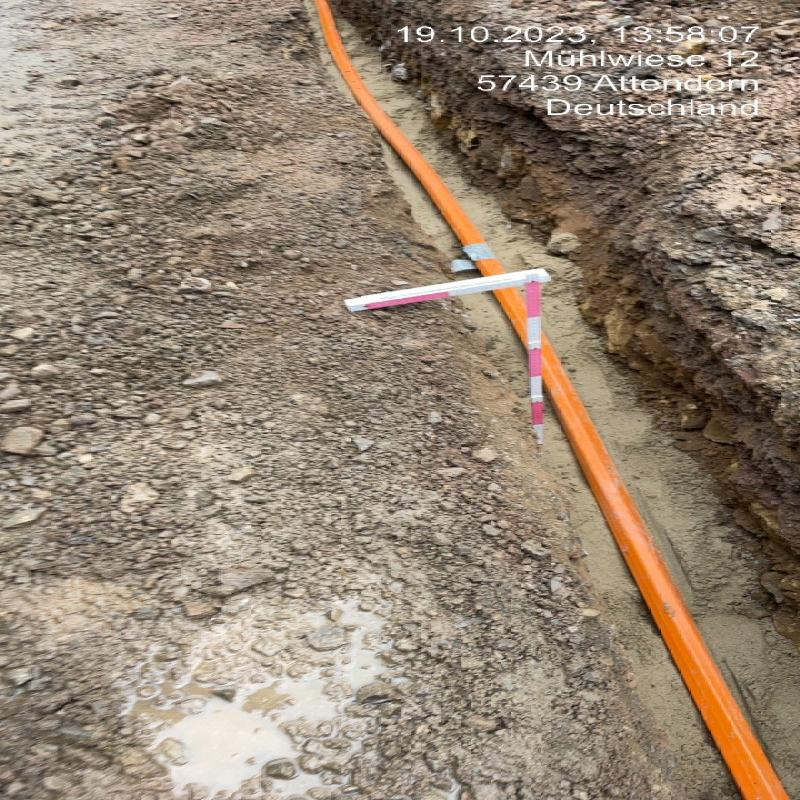Orang-Speednetrohrchen: (543, 332, 790, 800), (320, 13, 507, 276)
